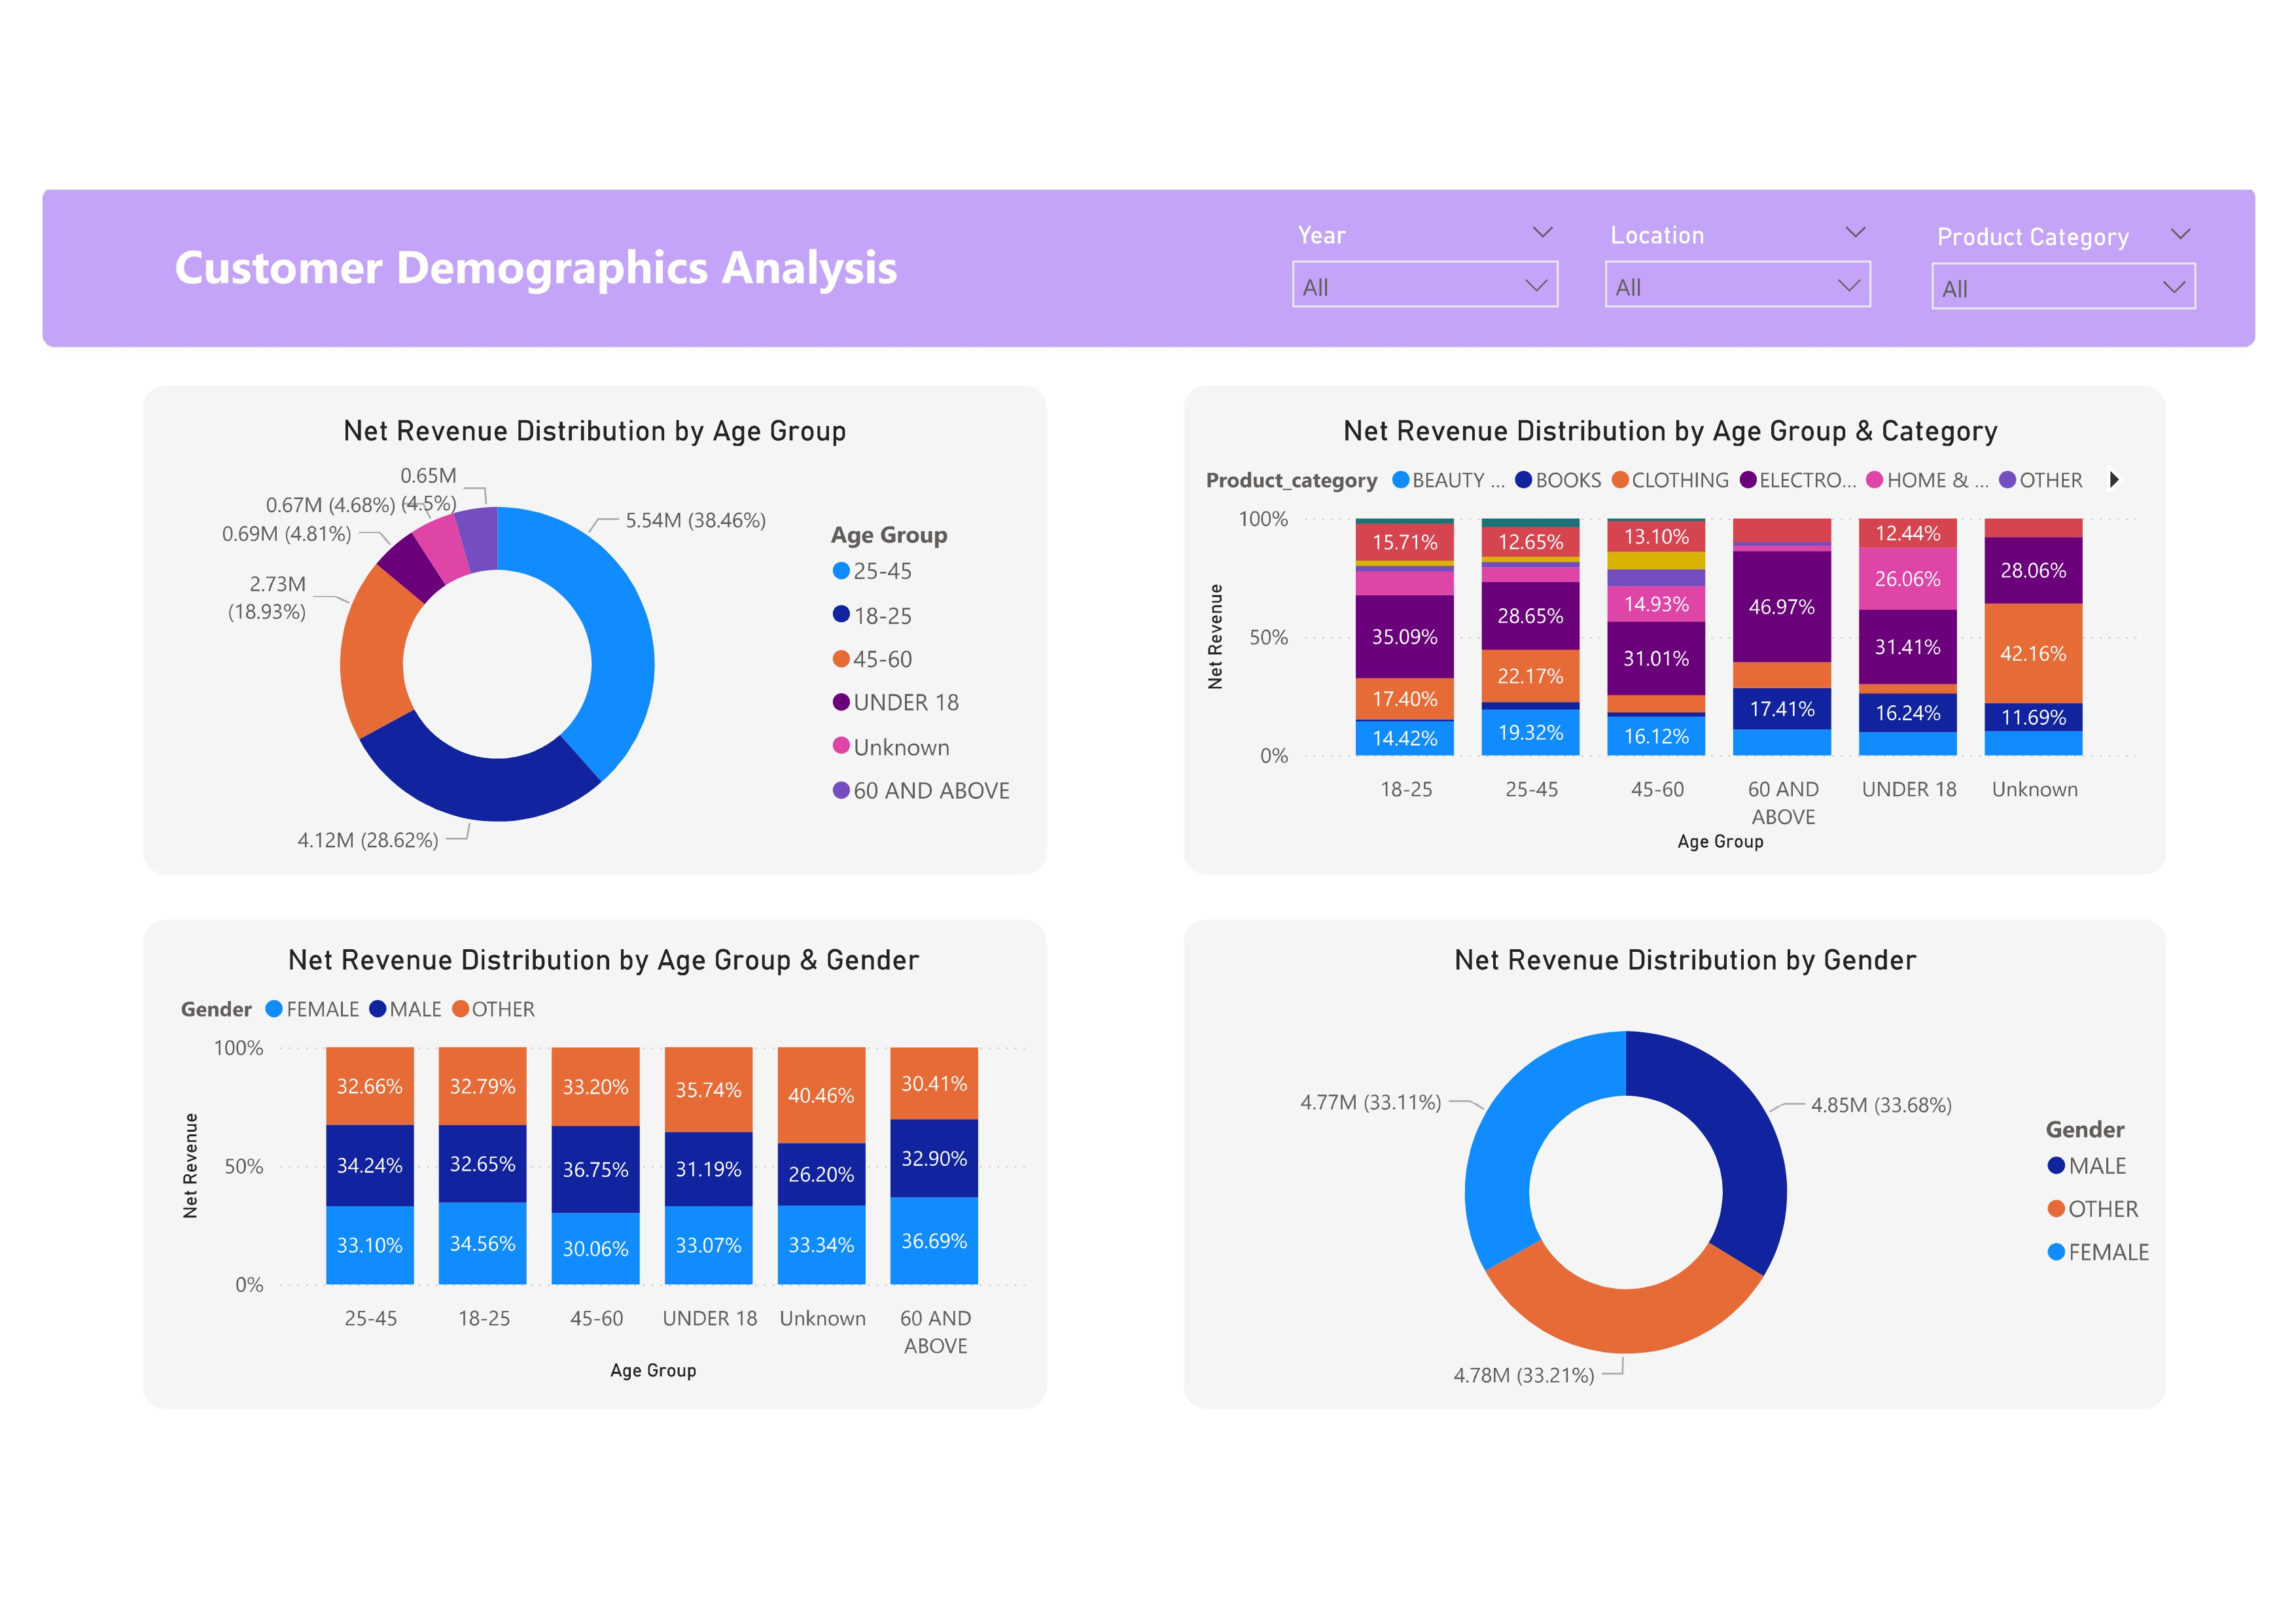

What the dashboard file says about the page in this screenshot:
{"tool":"powerbi","page":{"name":"Customer Demographics Analysis","canvas":[1280,720],"ordinal":5},"visuals":[{"type":"textbox","box":[52.5,20,465,61.2],"z":0},{"type":"slicer","fields":{"Values":["Ecommerce_sales.Month_Year.Variation.Date Hierarchy.Year","Ecommerce_sales.Month_Year.Variation.Date Hierarchy.Quarter","Ecommerce_sales.Month_Year.Variation.Date Hierarchy.Month"]},"box":[713.1,13.1,173.8,72.6],"z":1000},{"type":"slicer","fields":{"Values":["Ecommerce_sales.Location"]},"box":[894.1,13.1,173.8,72.6],"z":2000},{"type":"slicer","fields":{"Values":["Ecommerce_sales.Product_category"]},"box":[1082.5,13.8,173.8,73.8],"z":3000},{"type":"donutChart","title":"Net Revenue Distribution by Age Group","fields":{"Category":["Ecommerce_sales.Age_group"],"Y":["Ecommerce_sales.Total revenue"]},"box":[65,128.8,508.8,272.5],"z":4000},{"type":"hundredPercentStackedColumnChart","title":"Net Revenue Distribution by Age Group & Category","fields":{"Category":["Ecommerce_sales.Age_group"],"Series":["Ecommerce_sales.Product_category"],"Y":["Ecommerce_sales.Total revenue"]},"box":[667.5,128.8,548.8,258.8],"z":5000},{"type":"hundredPercentStackedColumnChart","title":"Net Revenue Distribution by Age Group & Gender","fields":{"Y":["Ecommerce_sales.Total revenue"],"Category":["Ecommerce_sales.Age_group"],"Series":["Ecommerce_sales.Gender"]},"box":[75,435,498.8,258.8],"z":6000},{"type":"donutChart","title":"Net Revenue Distribution by Gender","fields":{"Y":["Ecommerce_sales.Total revenue"],"Category":["Ecommerce_sales.Gender"]},"box":[667.5,435,565,271.2],"z":7000}]}

Visuals, with their boxes on the page's 1280x720 design canvas (x1, y1, x2, y2). These are canvas units, not pixel positions in the 2296x1623 screenshot, which may show the page scaled, cropped or inside an application window:
textbox: <box>52,20,518,81</box>
slicer - Ecommerce_sales.Month_Year.Variation.Date Hierarchy.Year x Ecommerce_sales.Month_Year.Variation.Date Hierarchy.Quarter: <box>713,13,887,86</box>
slicer - Ecommerce_sales.Location: <box>894,13,1068,86</box>
slicer - Ecommerce_sales.Product_category: <box>1082,14,1256,88</box>
"Net Revenue Distribution by Age Group" donutChart: <box>65,129,574,401</box>
"Net Revenue Distribution by Age Group & Category" hundredPercentStackedColumnChart: <box>668,129,1216,388</box>
"Net Revenue Distribution by Age Group & Gender" hundredPercentStackedColumnChart: <box>75,435,574,694</box>
"Net Revenue Distribution by Gender" donutChart: <box>668,435,1232,706</box>
